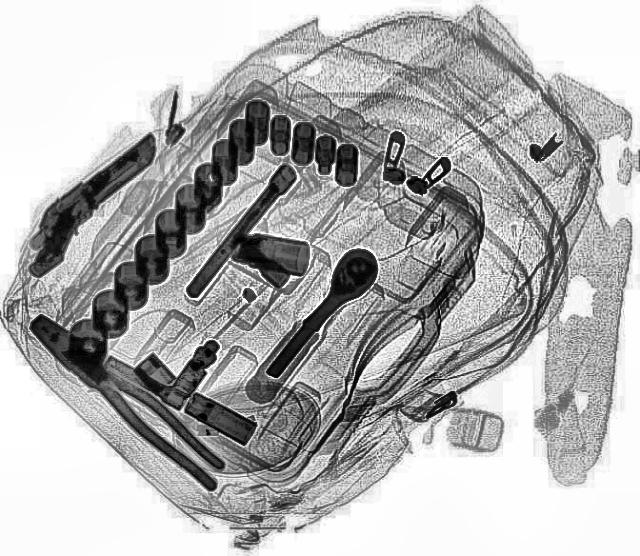Gun: (0, 130, 192, 274)
Pliers: (15, 306, 241, 494)
